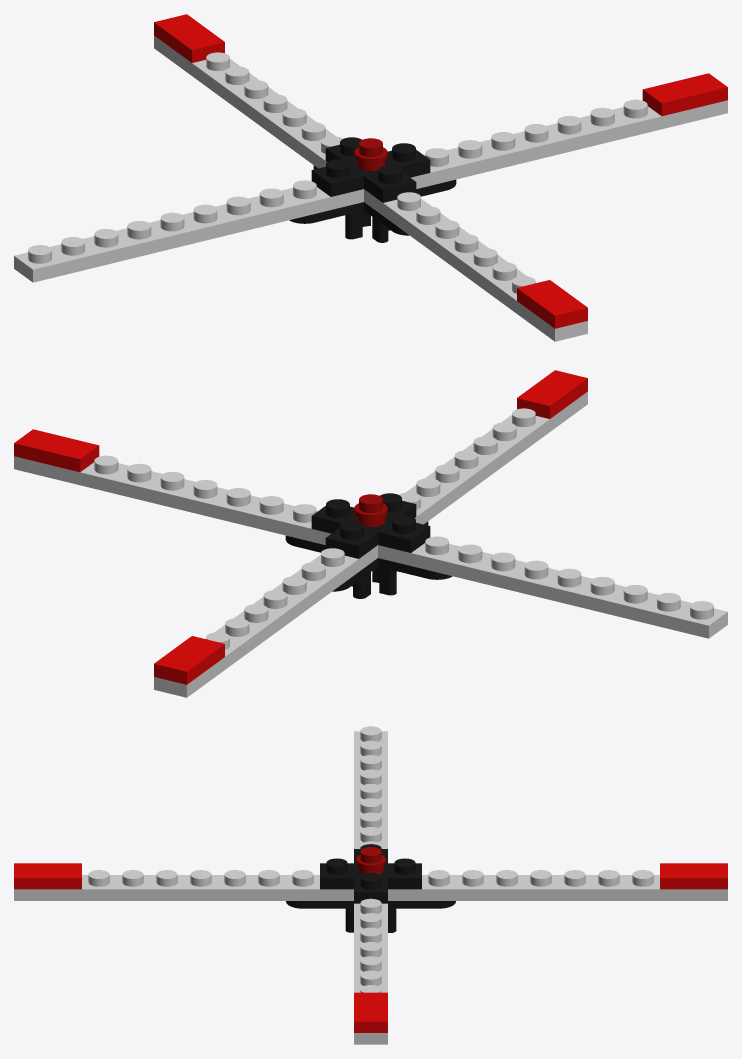
Rendered from Helices.fbx.
The picture shows the model from 3 angles, top to bottom: view 1: azimuth 30°, elevation 25°; view 2: azimuth 150°, elevation 25°; view 3: azimuth 270°, elevation 25°; orthographic projection. The views are drawn at different scales.
Visible parts, largest first — view 1: Mesh229, Mesh230, Mesh228, Mesh227, Mesh231, Mesh237, Mesh226, Mesh235, Mesh236, Mesh233, Mesh234, Mesh232; view 2: Mesh229, Mesh230, Mesh227, Mesh228, Mesh231, Mesh237, Mesh226, Mesh236, Mesh235, Mesh232, Mesh234, Mesh233; view 3: Mesh227, Mesh228, Mesh229, Mesh230, Mesh235, Mesh236, Mesh226, Mesh237, Mesh231, Mesh232, Mesh233, Mesh234.
Part boxes in pixels (box(x1,y1,x2,y2)): Mesh229: box(14, 180, 363, 282); Mesh230: box(411, 99, 727, 188); Mesh228: box(364, 189, 587, 341); Mesh227: box(154, 35, 342, 168); Mesh231: box(311, 143, 430, 196); Mesh237: box(642, 73, 727, 116); Mesh226: box(289, 165, 456, 242); Mesh235: box(517, 280, 587, 328); Mesh236: box(154, 14, 224, 62); Mesh233: box(364, 165, 416, 202); Mesh234: box(354, 138, 387, 170); Mesh232: box(325, 137, 361, 161); Mesh229: box(378, 536, 727, 638); Mesh230: box(14, 455, 330, 544); Mesh227: box(154, 545, 377, 697); Mesh228: box(399, 391, 587, 524); Mesh231: box(311, 499, 430, 552); Mesh237: box(14, 429, 99, 472); Mesh226: box(285, 521, 452, 598); Mesh236: box(154, 636, 224, 684); Mesh235: box(517, 370, 587, 418); Mesh232: box(325, 521, 377, 558); Mesh234: box(354, 494, 387, 526); Mesh233: box(380, 493, 416, 517); Mesh227: box(388, 870, 727, 900); Mesh228: box(14, 870, 353, 900); Mesh229: box(354, 726, 387, 848); Mesh230: box(354, 898, 387, 1044); Mesh235: box(14, 863, 81, 889); Mesh236: box(660, 863, 727, 889); Mesh226: box(286, 901, 455, 932); Mesh237: box(354, 992, 387, 1032); Mesh231: box(354, 844, 387, 903); Mesh232: box(388, 858, 421, 889); Mesh233: box(320, 858, 353, 889); Mesh234: box(356, 847, 385, 874).
Size of the model in its own units: 13.06 by 1.59 by 13.06.
